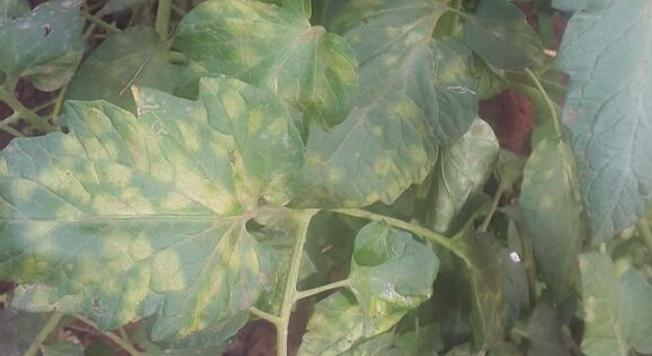Tomato mold leaf: (0, 74, 286, 346), (289, 0, 484, 209), (552, 0, 652, 247), (189, 0, 347, 148), (578, 254, 652, 356)
